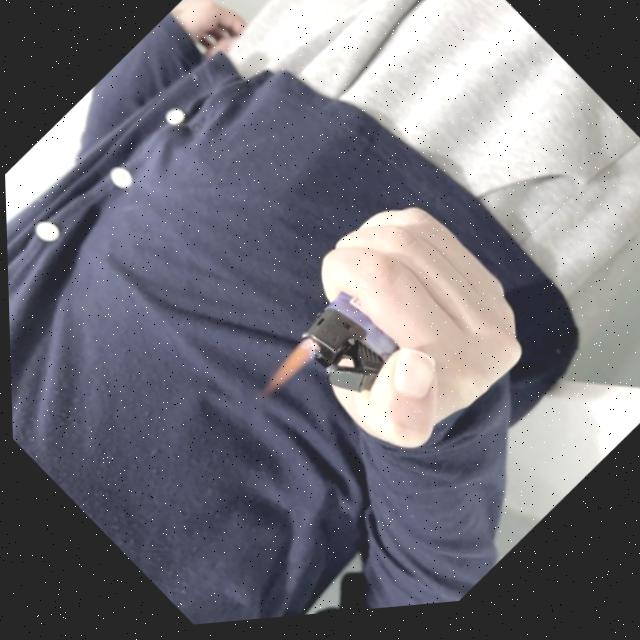Fire: (253, 336, 322, 404)
